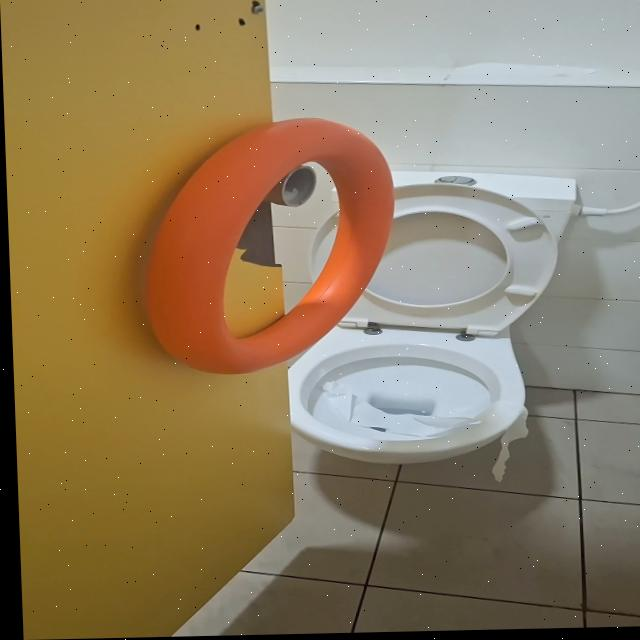note: (135, 116, 401, 378)
